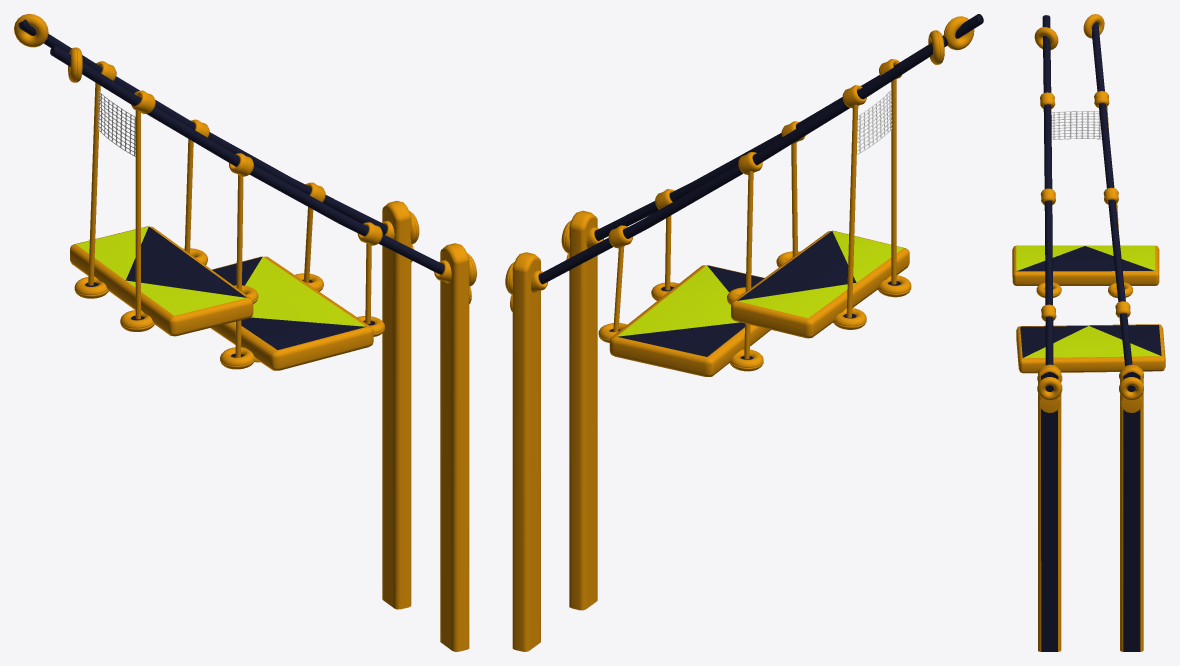
The model's file is stairs3.fbx.
3 views of the same model, side by side, from view 1: azimuth 30°, elevation 25°; view 2: azimuth 150°, elevation 25°; view 3: azimuth 270°, elevation 25° (orthographic). The views are drawn at different scales.
Visible parts, largest first — view 1: pCube5, pCube4, pCube1, pCube2, polySurface2909, polySurface2910, pCylinder8, pCylinder9, polySurface2914, pCylinder6, polySurface2892, pCylinder7; view 2: pCube4, pCube5, pCube1, pCube2, polySurface2910, polySurface2909, pCylinder9, pCylinder8, polySurface2914, pCylinder7; view 3: pCube2, pCube4, pCube5, pCube1, polySurface2910, polySurface2909, polySurface2914, polySurface2912, polySurface2915, polySurface2891, polySurface2892.
Boxes of the visible parts, x1,y1,x2,y2 form: pCube5: (440, 243, 469, 651); pCube4: (382, 201, 411, 609); pCube1: (70, 226, 253, 336); pCube2: (210, 256, 373, 370); polySurface2909: (50, 45, 444, 274); polySurface2910: (18, 19, 387, 234); pCylinder8: (135, 110, 140, 319); pCylinder9: (88, 82, 100, 285); polySurface2914: (97, 91, 135, 156); pCylinder6: (235, 175, 243, 357); polySurface2892: (14, 14, 48, 47); pCylinder7: (184, 139, 193, 253); pCube4: (512, 252, 540, 651); pCube5: (569, 210, 597, 610); pCube1: (731, 230, 909, 338); pCube2: (609, 265, 770, 376); polySurface2910: (538, 36, 947, 284); polySurface2909: (594, 14, 983, 241); pCylinder9: (846, 104, 858, 317); pCylinder8: (891, 79, 896, 284); polySurface2914: (856, 89, 892, 154); pCylinder7: (744, 171, 753, 359); pCube2: (1016, 324, 1165, 373); pCube4: (1120, 364, 1143, 651); pCube5: (1038, 364, 1061, 651); pCube1: (1012, 245, 1159, 285); polySurface2910: (1092, 22, 1132, 366); polySurface2909: (1042, 15, 1053, 365); polySurface2914: (1051, 111, 1101, 139); polySurface2912: (1037, 377, 1062, 412); polySurface2915: (1119, 377, 1143, 412); polySurface2891: (1034, 27, 1058, 49); polySurface2892: (1083, 14, 1104, 38).
Size of the model in its own units: 2309 by 3679 by 1025.
